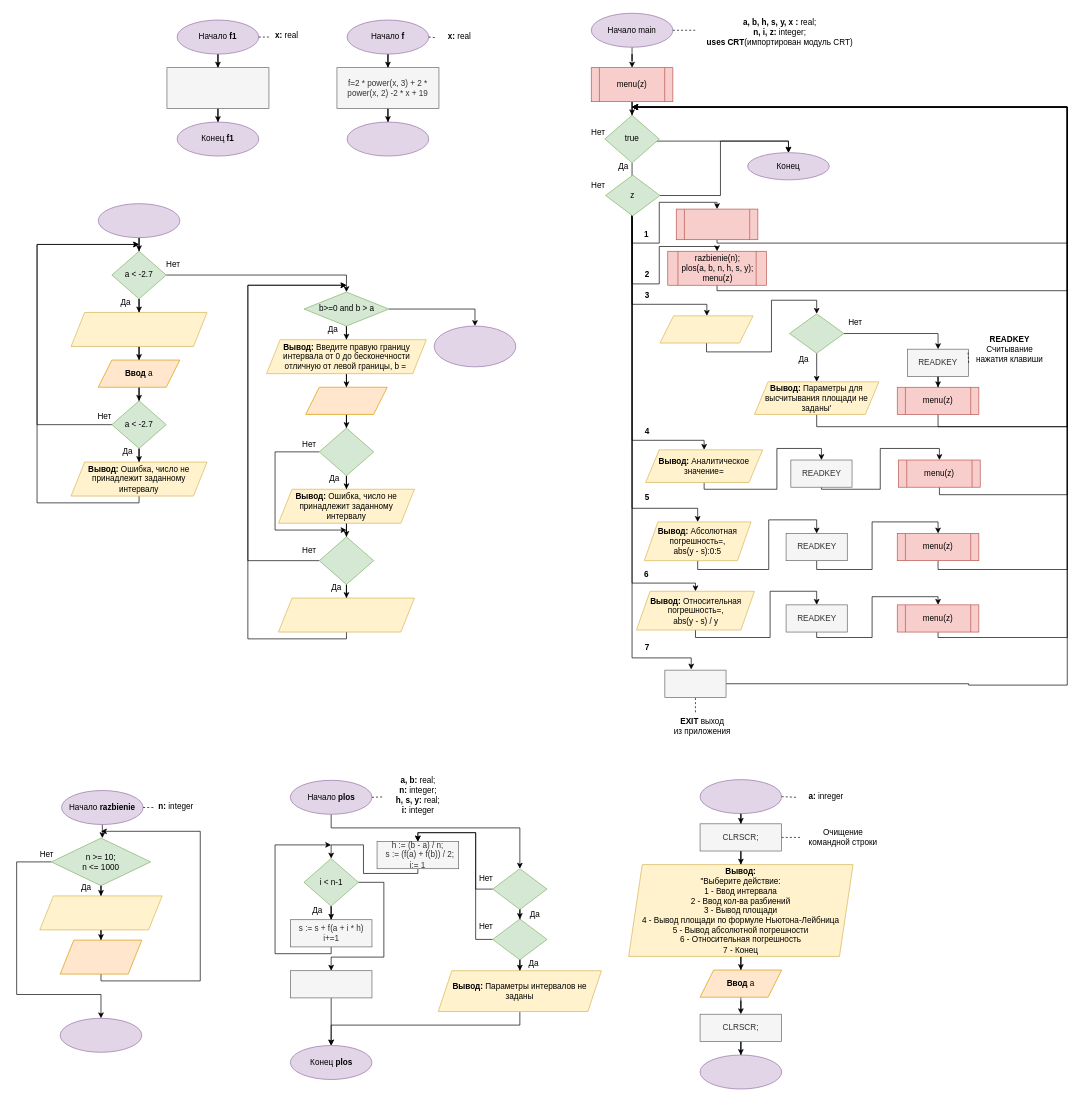
This 1085x1101 diagram has some shape labels left out. The shapes that lost their labels are listed below. From the top down, each one's centre as x and y in pixels, then its label:
At point 217,87: "f1=2 / 4 * power(x, 4) + 2 / 3 * power(x, 3) - power(x, 2) + 19 * x".
At point 387,138: "Конец f".
At point 139,220: "Начало interval".
At point 717,224: "interval(a, b); manu(z)".
At point 138,329: "Вывод: Введите левую границу интервала от -2,7 до бесконечности, a =".
At point 475,346: "Конец interval".
At point 706,329: "Вывод: 'S=', s:0:5".
At point 816,333: "s = 0.00".
At point 346,400: "Ввод b".
At point 346,451: "b < -2.7".
At point 346,560: "b = a".
At point 346,614: "Вывод: Интервалы не могут быть равны".
At point 695,683: "READKEY; exit".
At point 740,796: "Начало menu".
At point 519,889: "b = 0.00".
At point 100,912: "Вывод: Введите число разбиений от 10 до 1000 n =".
At point 101,956: "Ввод n".
At point 519,939: "a = 0.00".
At point 331,984: "s := s * h; y := f1(b) - f1(a);".
At point 101,1035: "Конец razbienie".
At point 740,1071: "Конец menu".
